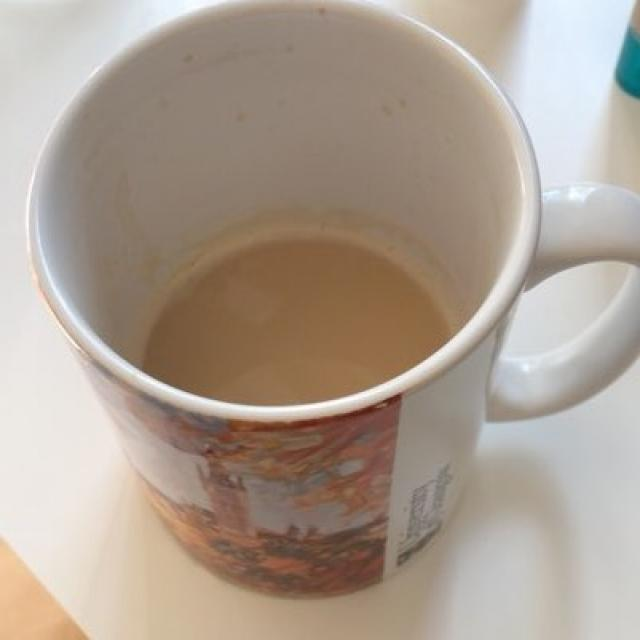coffee: (143, 228, 465, 404)
